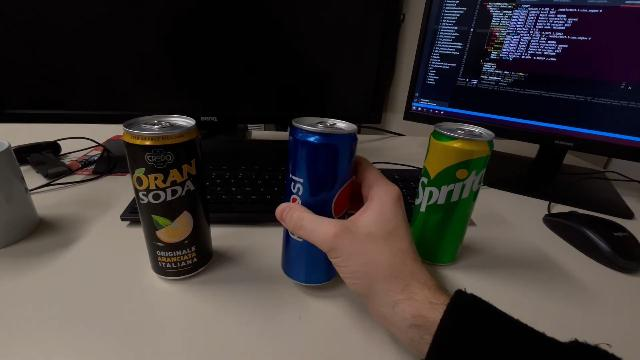OranSoda: (120, 113, 216, 282)
Pepsi: (278, 114, 359, 290)
Sprite: (407, 121, 498, 267)
